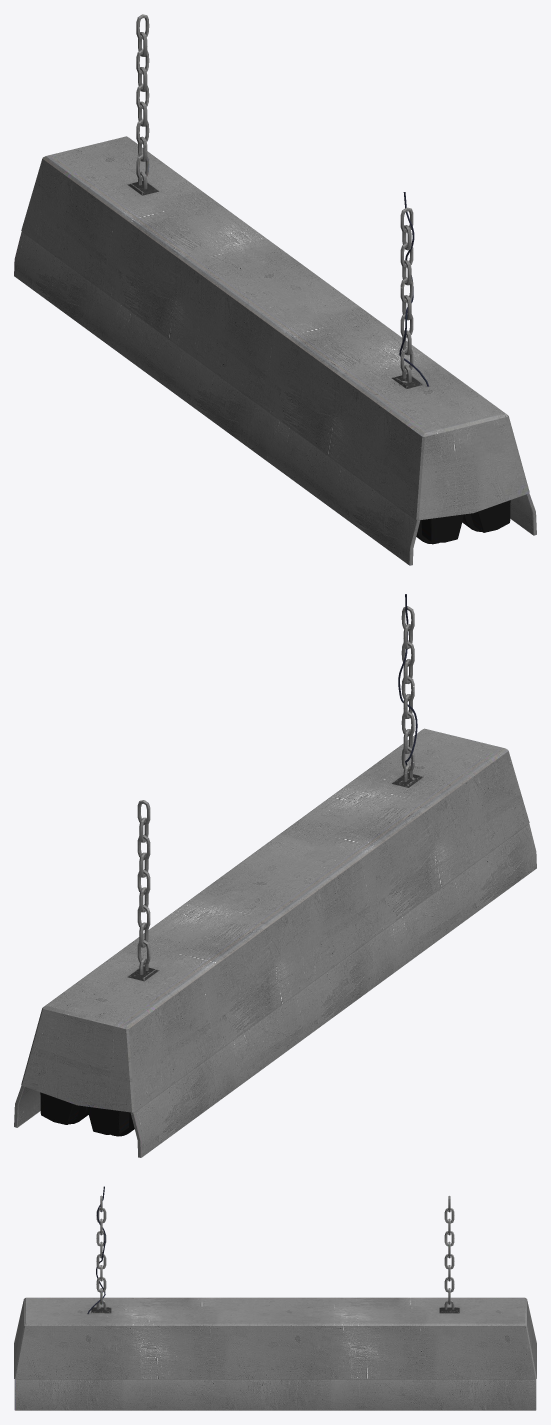
3 renders of one model, top to bottom at view 1: azimuth 30°, elevation 25°; view 2: azimuth 150°, elevation 25°; view 3: azimuth 270°, elevation 25°, orthographic. The views are drawn at different scales.
Visible parts, largest first — view 1: fluorescent; view 2: fluorescent; view 3: fluorescent.
Boxes of the visible parts, bbox=[...] form: fluorescent: bbox=[14, 14, 536, 565]; fluorescent: bbox=[14, 594, 536, 1157]; fluorescent: bbox=[14, 1186, 536, 1410].
Bounding box in the file's own units: 16.33 × 37.71 × 87.93.
Materials: 1 (1 with a texture image).
